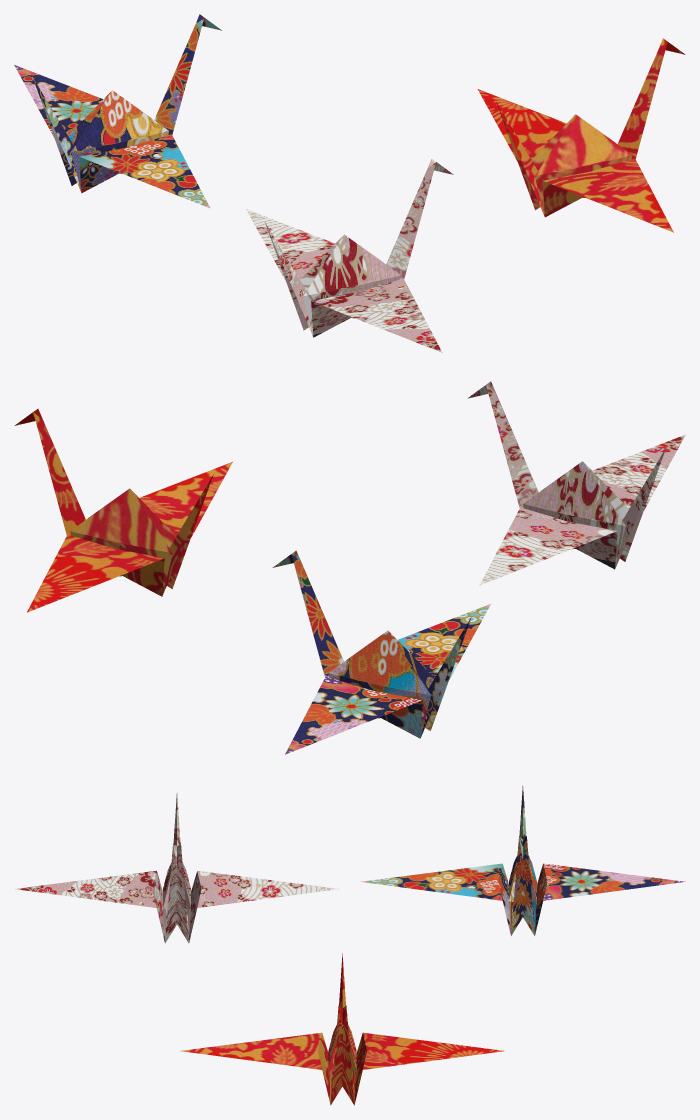
File: cranes.glb
The picture shows the model from 3 angles, top to bottom: view 1: azimuth 30°, elevation 25°; view 2: azimuth 150°, elevation 25°; view 3: azimuth 270°, elevation 25°; orthographic projection. The views are drawn at different scales.
Parts seen in each view (by area): view 1: Paper Crane.002, Paper Crane, Paper Crane.001; view 2: Paper Crane.001, Paper Crane.002, Paper Crane; view 3: Paper Crane.001, Paper Crane, Paper Crane.002.
Part boxes in pixels (x1=…): Paper Crane.002: x1=477, y1=38, x2=685, y2=232; Paper Crane: x1=246, y1=158, x2=453, y2=352; Paper Crane.001: x1=14, y1=14, x2=221, y2=208; Paper Crane.001: x1=272, y1=550, x2=490, y2=754; Paper Crane.002: x1=14, y1=408, x2=232, y2=612; Paper Crane: x1=467, y1=381, x2=685, y2=585; Paper Crane.001: x1=360, y1=785, x2=685, y2=935; Paper Crane: x1=15, y1=792, x2=338, y2=943; Paper Crane.002: x1=181, y1=953, x2=503, y2=1105.
Bounding box in the file's own units: 0.2662 × 0.0834 × 0.3429.
Materials: 3 (3 with a texture image).
